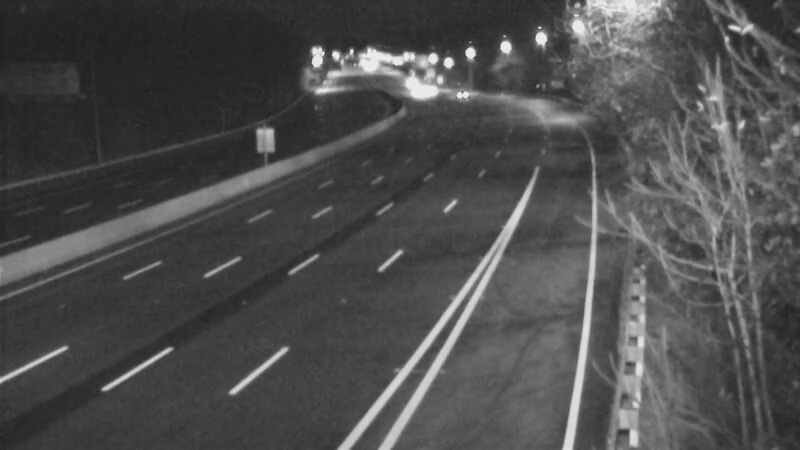vehicle: (384, 57, 434, 107), (403, 68, 453, 118), (393, 67, 443, 117), (437, 65, 487, 115)
